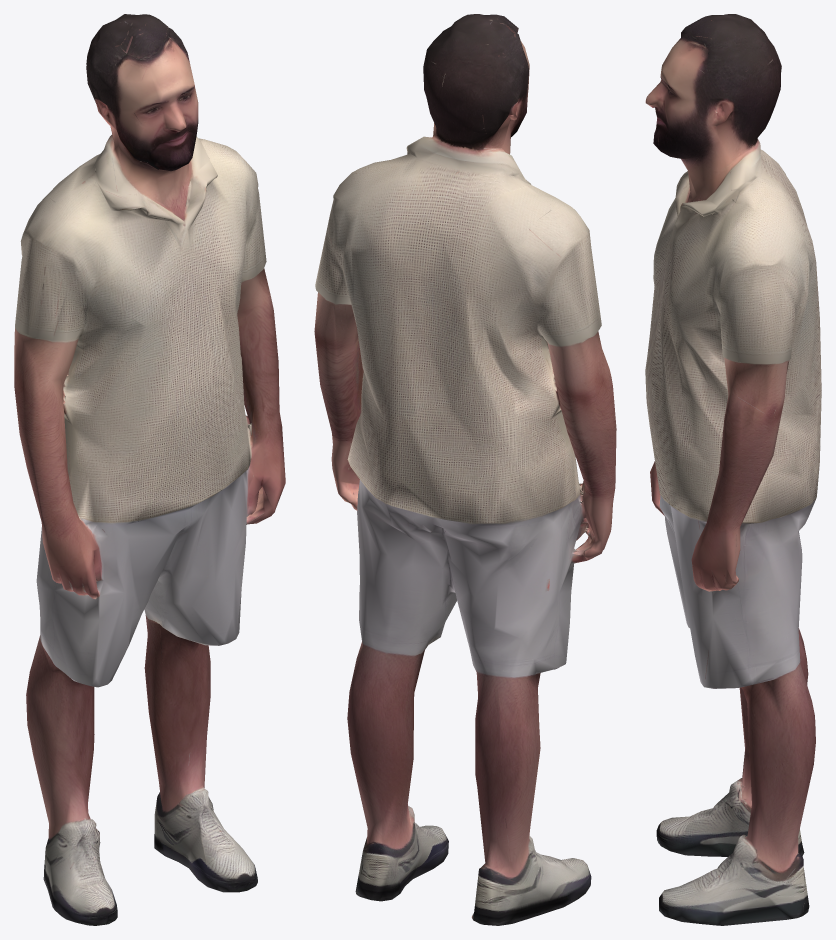
File: DrK.glb
3 renders of one model, left to right at view 1: azimuth 30°, elevation 25°; view 2: azimuth 150°, elevation 25°; view 3: azimuth 270°, elevation 25°, orthographic.
Visible parts, largest first — view 1: Mesh1.0; view 2: Mesh1.0; view 3: Mesh1.0.
Boxes of the visible parts, x1,y1,x2,y2 form: Mesh1.0: (14,14,285,925); Mesh1.0: (314,14,616,925); Mesh1.0: (645,14,821,925).
Size of the model in its own units: 0.6164 by 1.91 by 0.355.
1 material, 1 textured.
